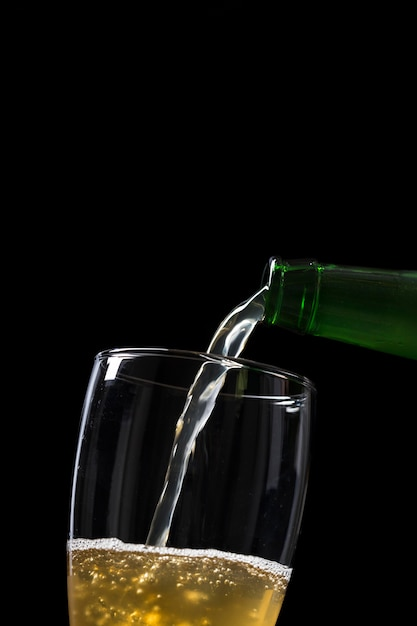alcohol: (67, 346, 316, 626), (265, 252, 417, 353)
